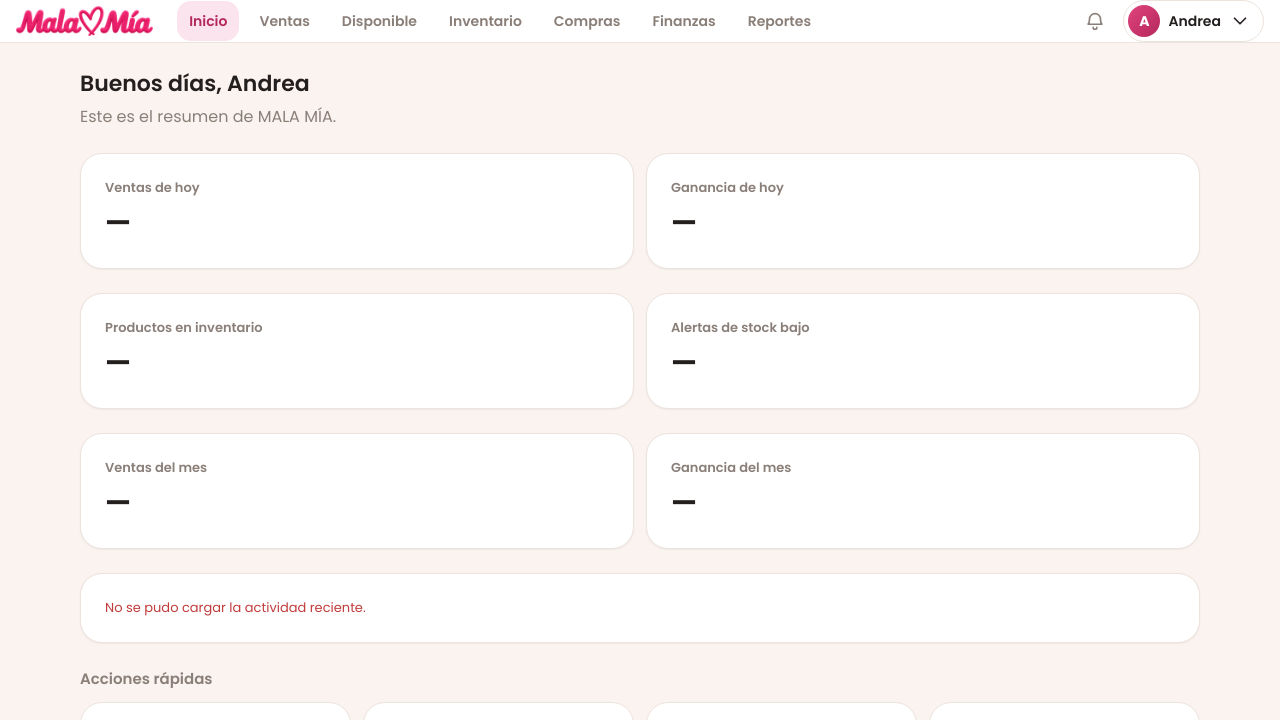
Test: Logout › cierra sesión desde el menú de usuario y regresa a /login
Click the button "A Andrea".
click(1194, 21)  # box 1123,0 -> 1264,42
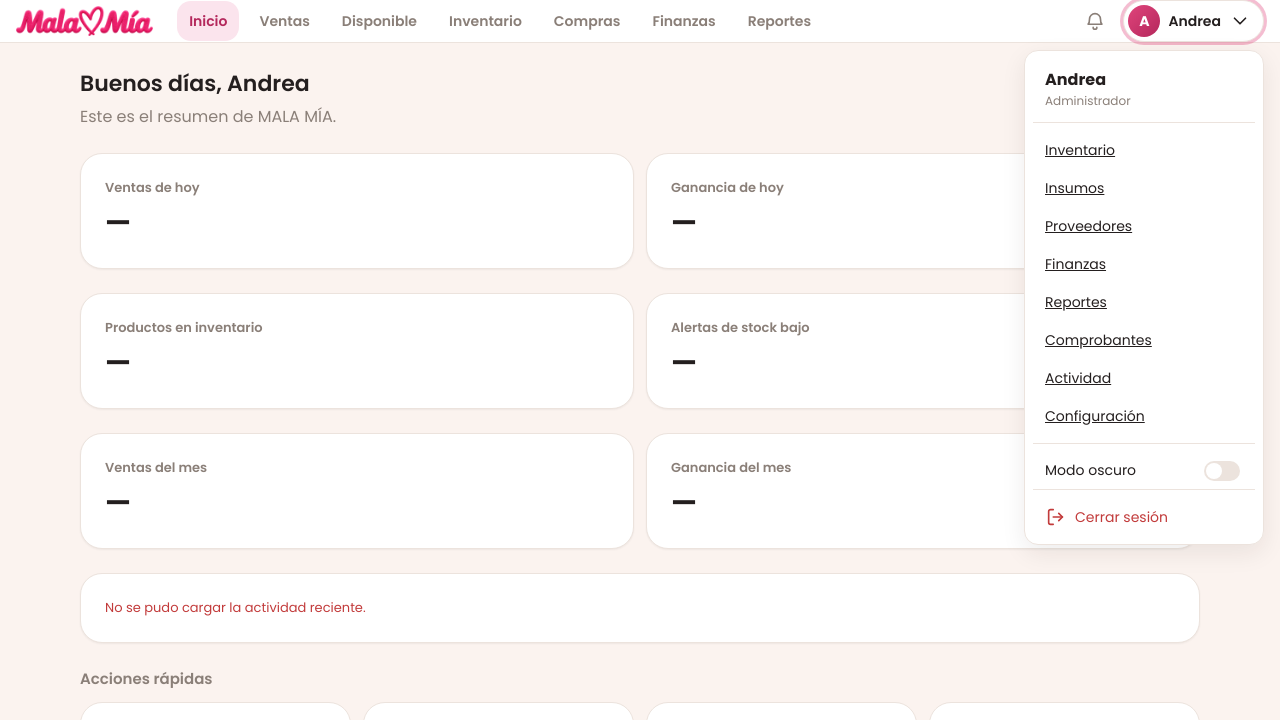
Click the menu item "Cerrar sesión".
click(1144, 517)  # box 1033,498 -> 1255,536
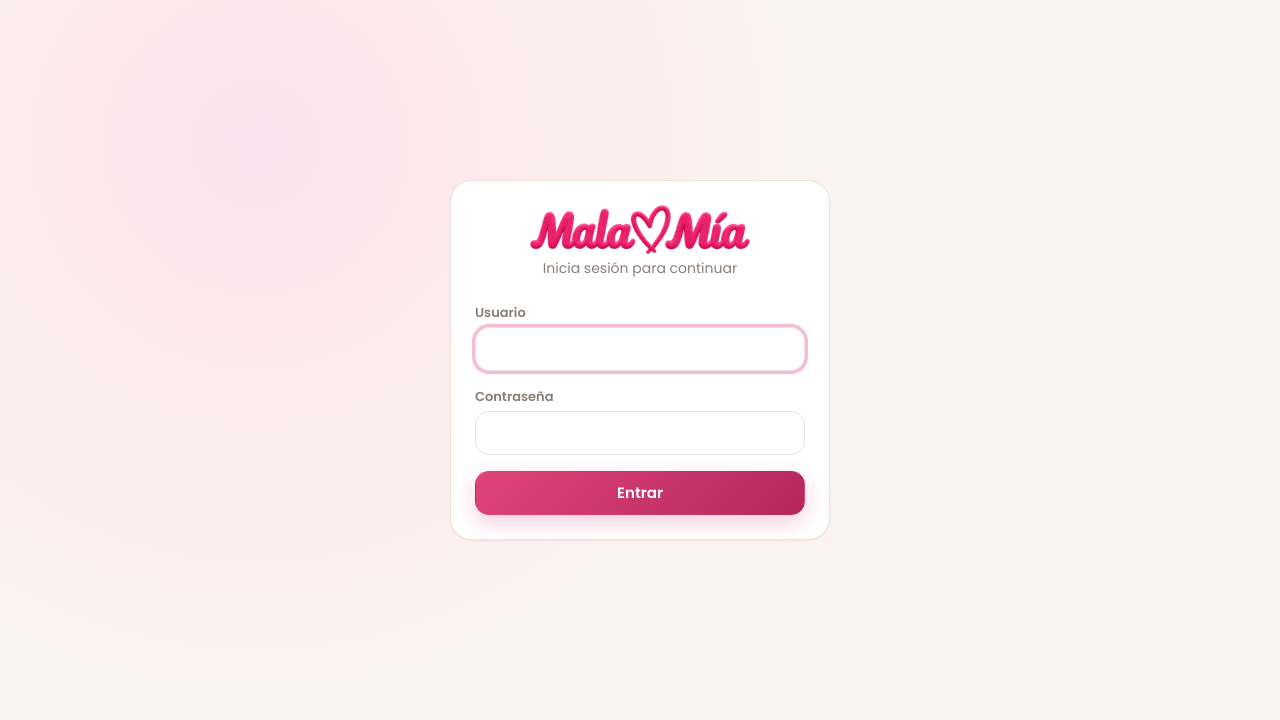
Check: the button "Entrar" is shown, box 475,471 -> 805,515
